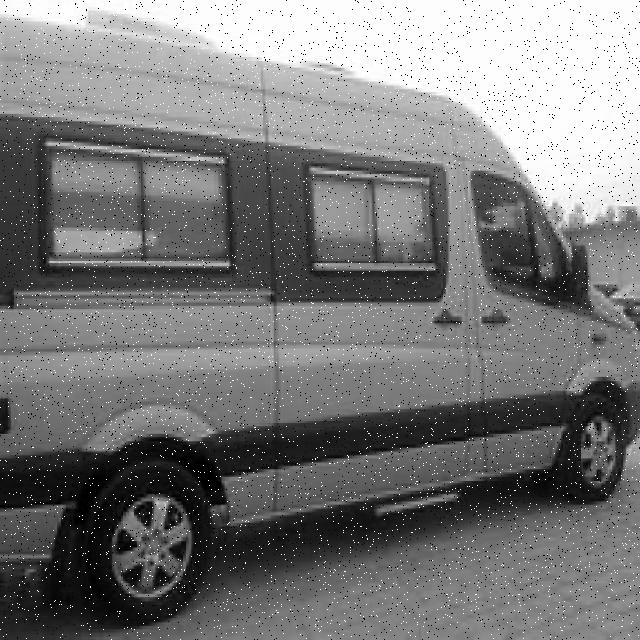Van: (0, 17, 640, 627)
